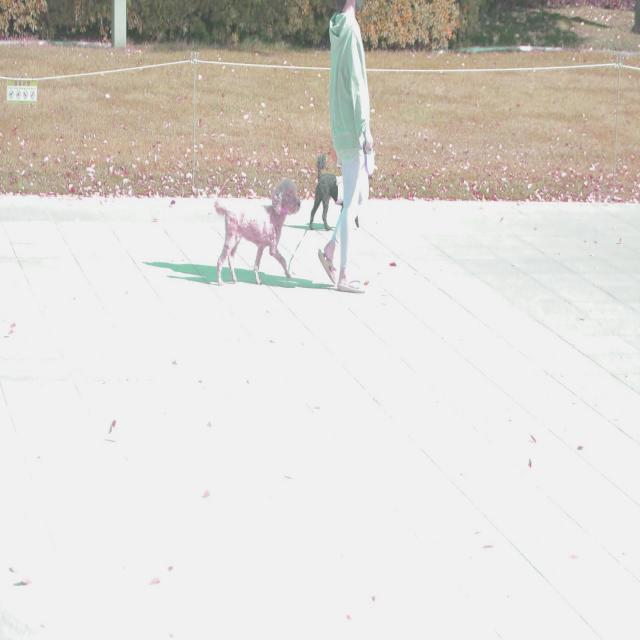Leashed_Dog: (212, 151, 375, 288), (308, 133, 376, 231)
